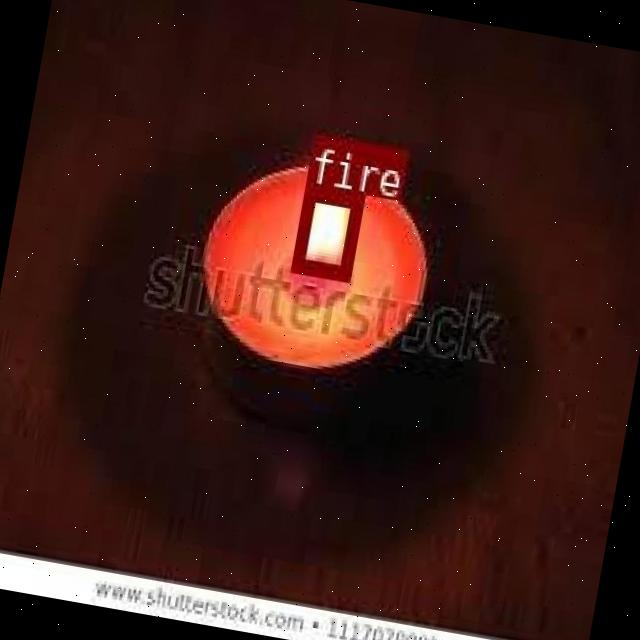fire: (288, 183, 362, 278)
